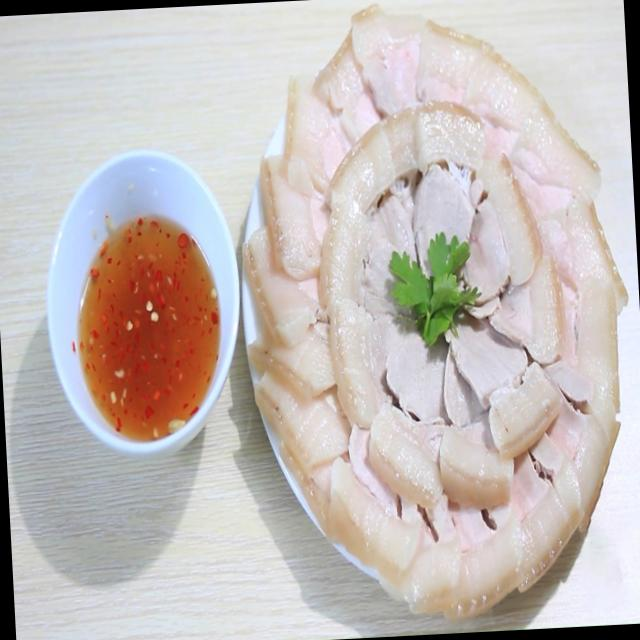nuoc mam: (79, 217, 220, 440)
rau ngo: (390, 232, 479, 345)
thit luoc: (262, 7, 628, 616), (244, 155, 382, 470)
